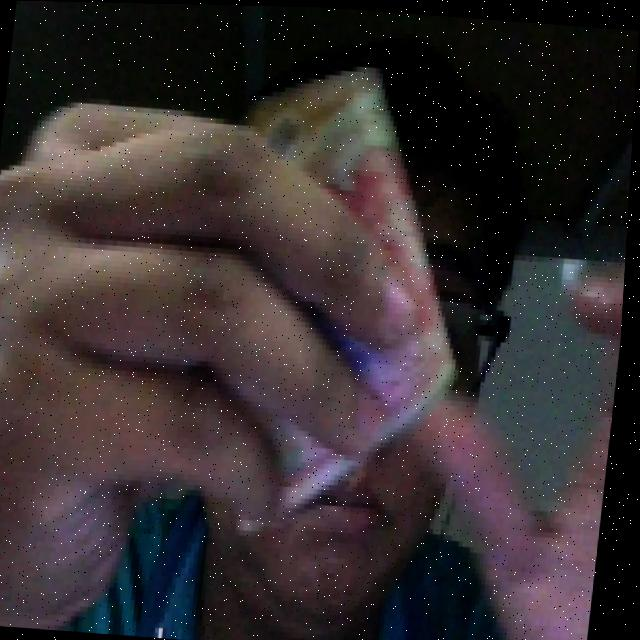200 000 VND: (195, 46, 494, 548)
